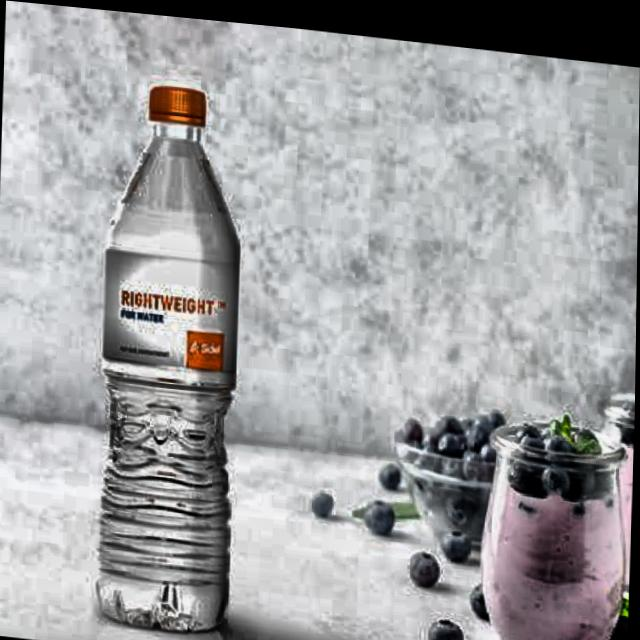Bottles: (78, 61, 270, 637)
